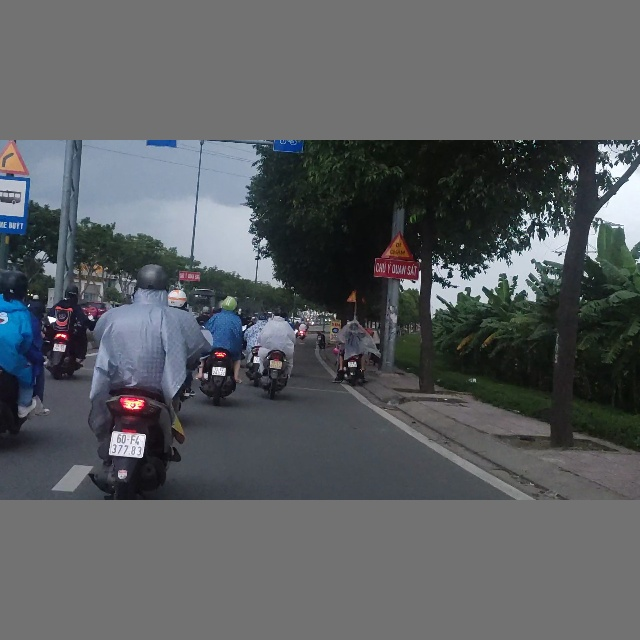W.245a: (380, 230, 413, 260)
